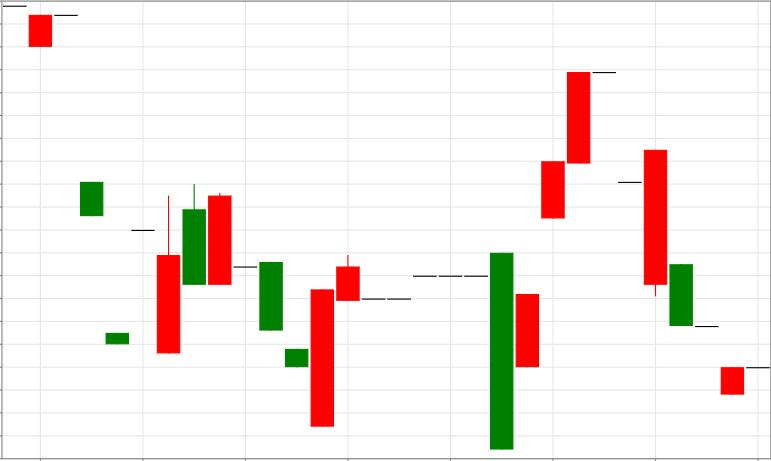bullish_engulfing_rise: (208, 193, 334, 427)
three_white_soldiers_rise: (413, 73, 591, 449)
